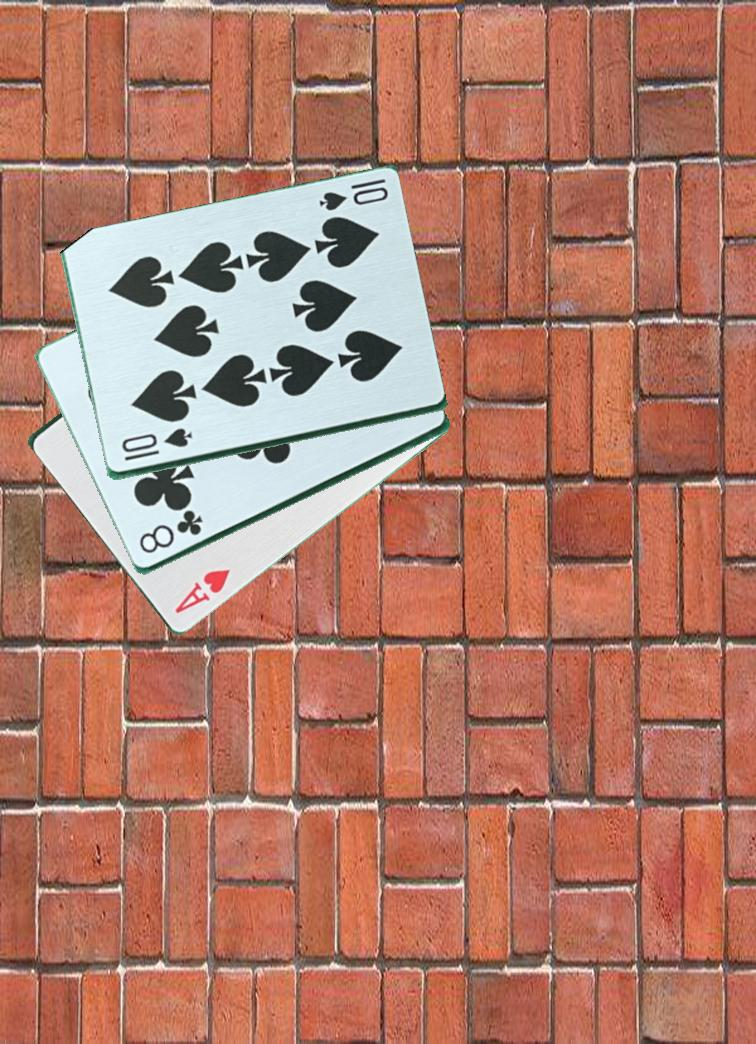8c: (135, 510, 207, 557)
ah: (171, 566, 236, 617)
ts: (117, 427, 195, 465), (315, 176, 391, 215)
